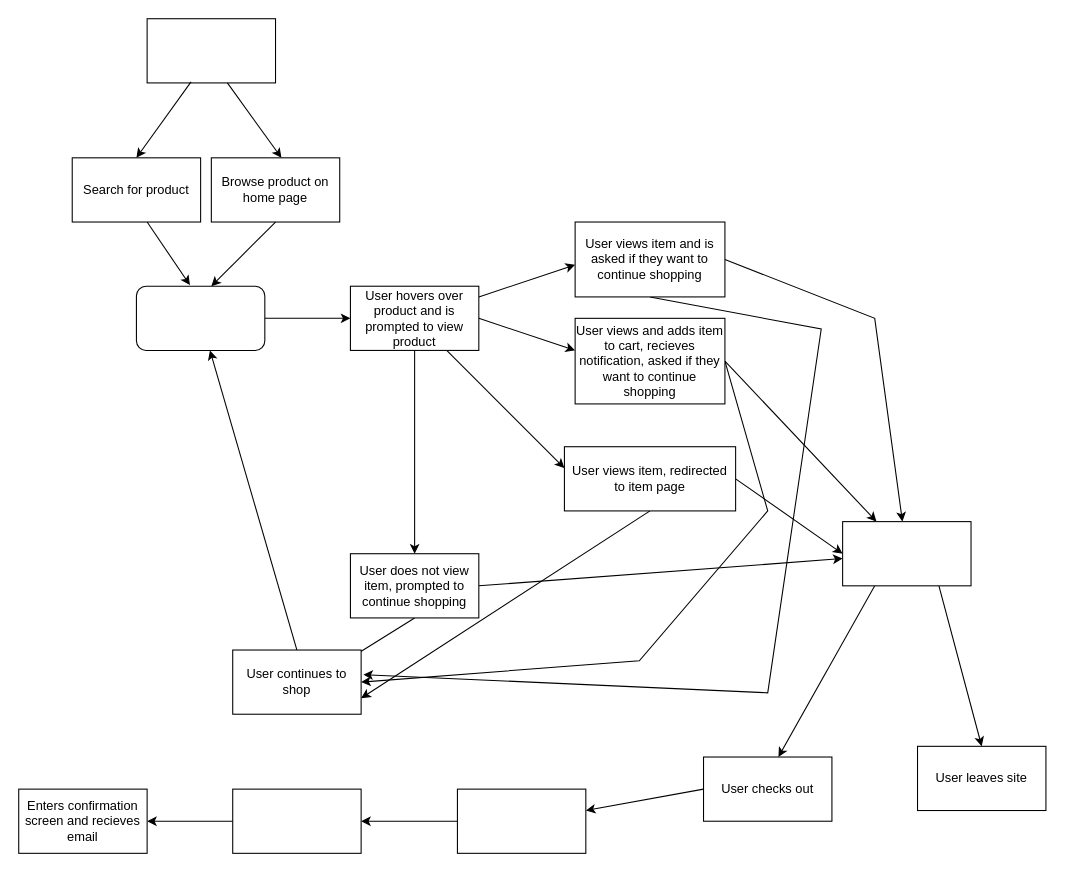
The diagram is 1065 pixels wide and 872 high, and some of its shapes have lost their labels. The box of each missing label's shape, as (x1, y1, x2, y2) in pixels:
Enter website: (146, 18, 276, 83)
Enters view payment and adds payment info: (232, 788, 361, 853)
Examines view cart screen: (456, 788, 586, 853)
User is done browsing: (842, 521, 971, 586)
User looks at products: (135, 285, 265, 350)
